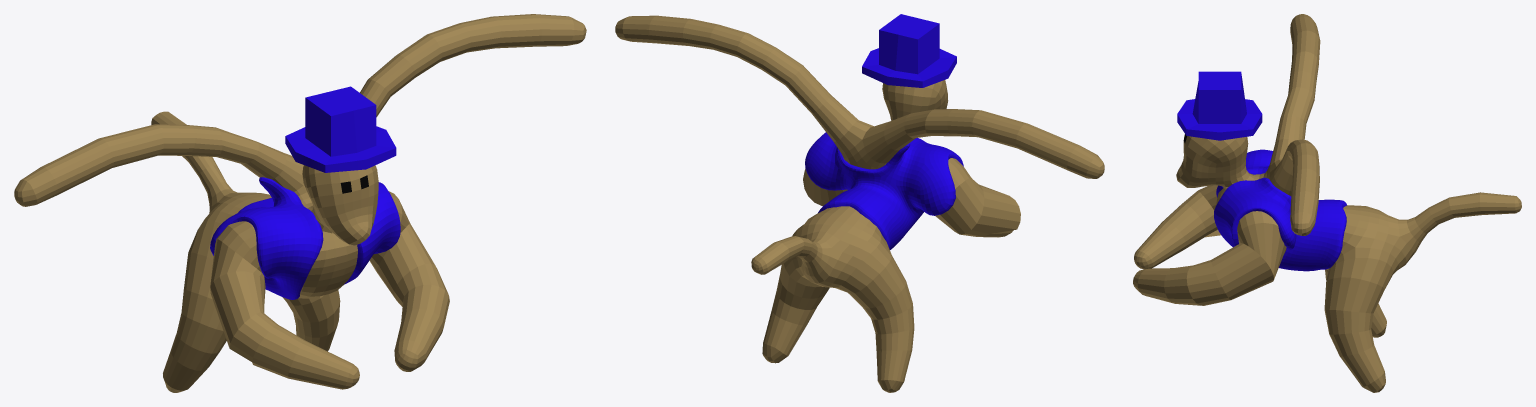
The model's file is Monkey2Pose4.fbx.
The picture shows the model from 3 angles, left to right: view 1: azimuth 30°, elevation 25°; view 2: azimuth 150°, elevation 25°; view 3: azimuth 270°, elevation 25°; orthographic projection. The views are drawn at different scales.
Visible parts, largest first — view 1: MonkeyV2_1_Group55570, vest_Group44000, pCube7; view 2: MonkeyV2_1_Group55570, vest_Group44000, pCube7; view 3: MonkeyV2_1_Group55570, vest_Group44000, pCube7.
Boxes of the visible parts, left/top/right/bottom form: MonkeyV2_1_Group55570: left=14, top=14, right=586, bottom=392; vest_Group44000: left=210, top=177, right=400, bottom=299; pCube7: left=285, top=86, right=396, bottom=172; MonkeyV2_1_Group55570: left=615, top=15, right=1104, bottom=392; vest_Group44000: left=805, top=132, right=963, bottom=249; pCube7: left=862, top=14, right=956, bottom=87; MonkeyV2_1_Group55570: left=1133, top=14, right=1521, bottom=392; vest_Group44000: left=1214, top=149, right=1346, bottom=271; pCube7: left=1177, top=71, right=1262, bottom=140.
Size of the model in its own units: 11.9 by 6.81 by 8.42.
